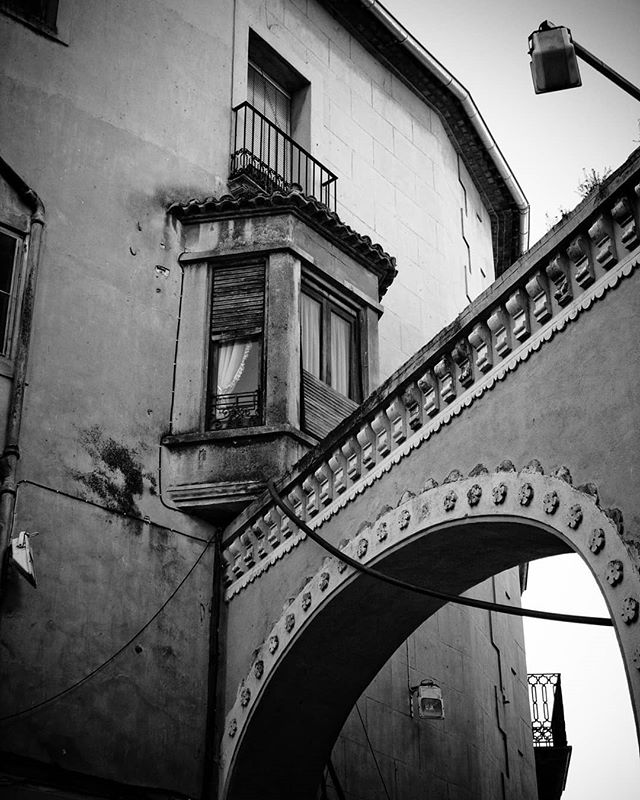building: (1, 1, 547, 798)
